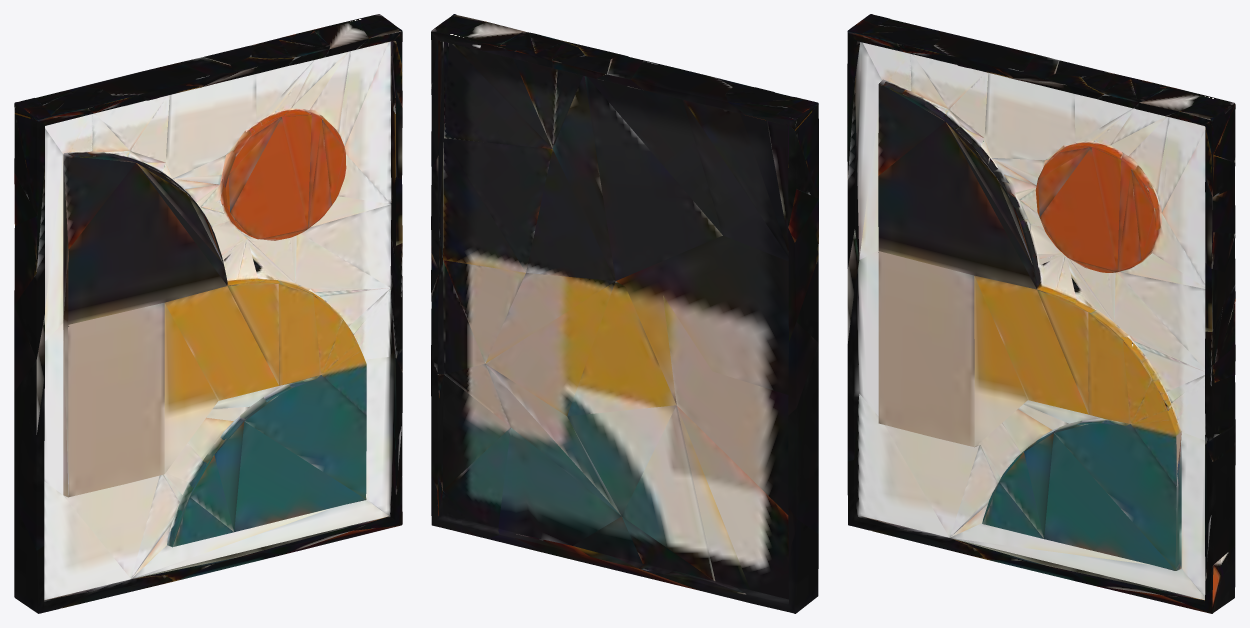
The model's file is wall-art.glb.
3 views of the same model, side by side, from view 1: azimuth 30°, elevation 25°; view 2: azimuth 150°, elevation 25°; view 3: azimuth 330°, elevation 25° (orthographic).
Visible parts, largest first — view 1: Mesh_0; view 2: Mesh_0; view 3: Mesh_0.
Boxes of the visible parts, x1=… form: Mesh_0: x1=14, y1=14, x2=402, y2=613; Mesh_0: x1=431, y1=14, x2=818, y2=613; Mesh_0: x1=847, y1=14, x2=1235, y2=613.
Bounding box in the file's own units: 1.47 × 1.9 × 0.1636.
1 material, 1 textured.
